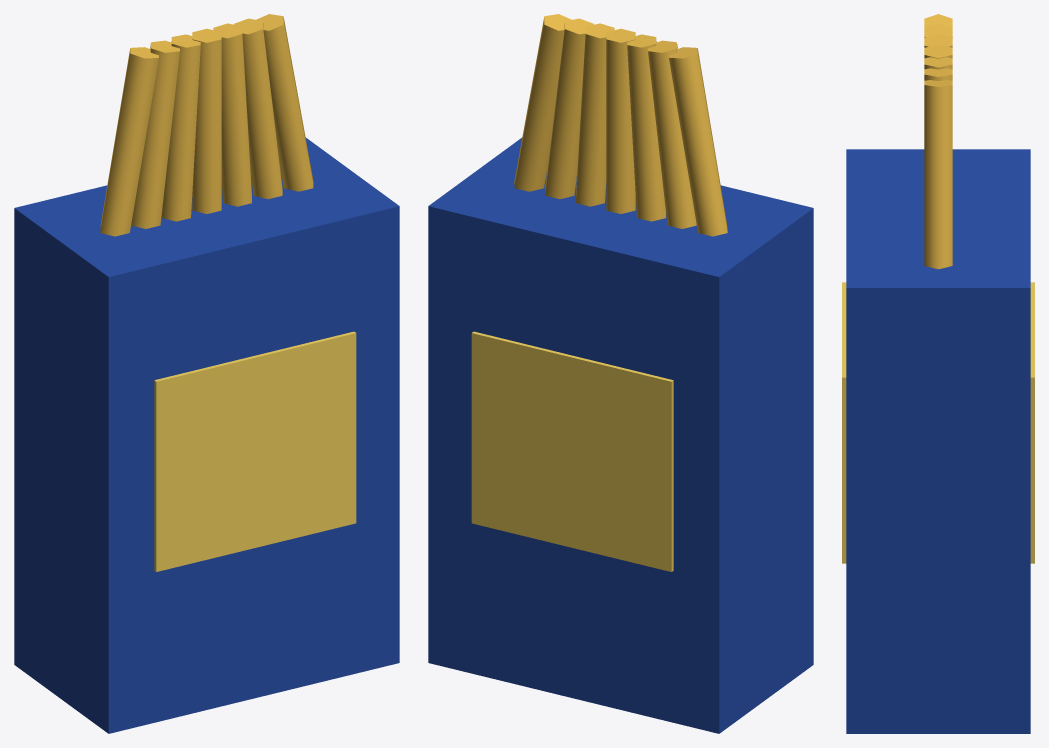
Rendered from food_makarna.glb.
3 renders of one model, left to right at view 1: azimuth 30°, elevation 25°; view 2: azimuth 150°, elevation 25°; view 3: azimuth 270°, elevation 25°, orthographic. The views are drawn at different scales.
Visible parts, largest first — view 1: FoodNode_makarna; view 2: FoodNode_makarna; view 3: FoodNode_makarna.
Boxes of the visible parts, x1=… form: FoodNode_makarna: x1=14, y1=14, x2=399, y2=733; FoodNode_makarna: x1=428, y1=14, x2=813, y2=733; FoodNode_makarna: x1=842, y1=14, x2=1034, y2=733.
Bounding box in the file's own units: 0.16 × 0.3305 × 0.094.
